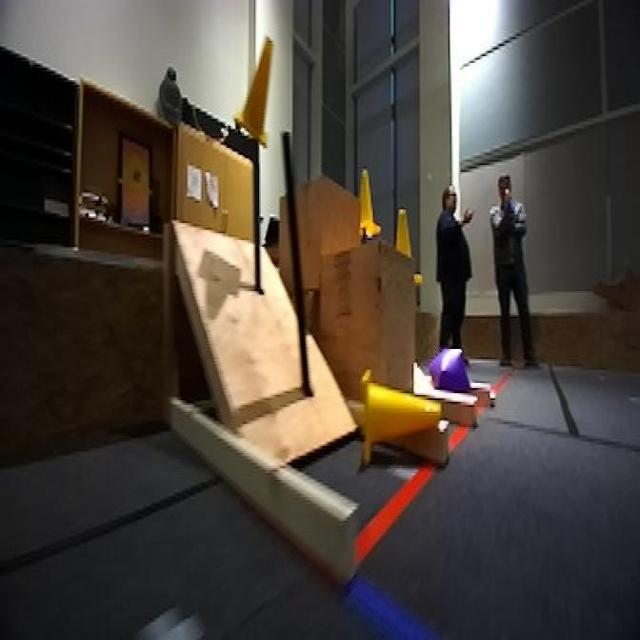frc_cone: (359, 369, 445, 472), (232, 34, 278, 150), (390, 209, 425, 288), (352, 170, 381, 240)
frc_cube: (430, 342, 474, 409)
